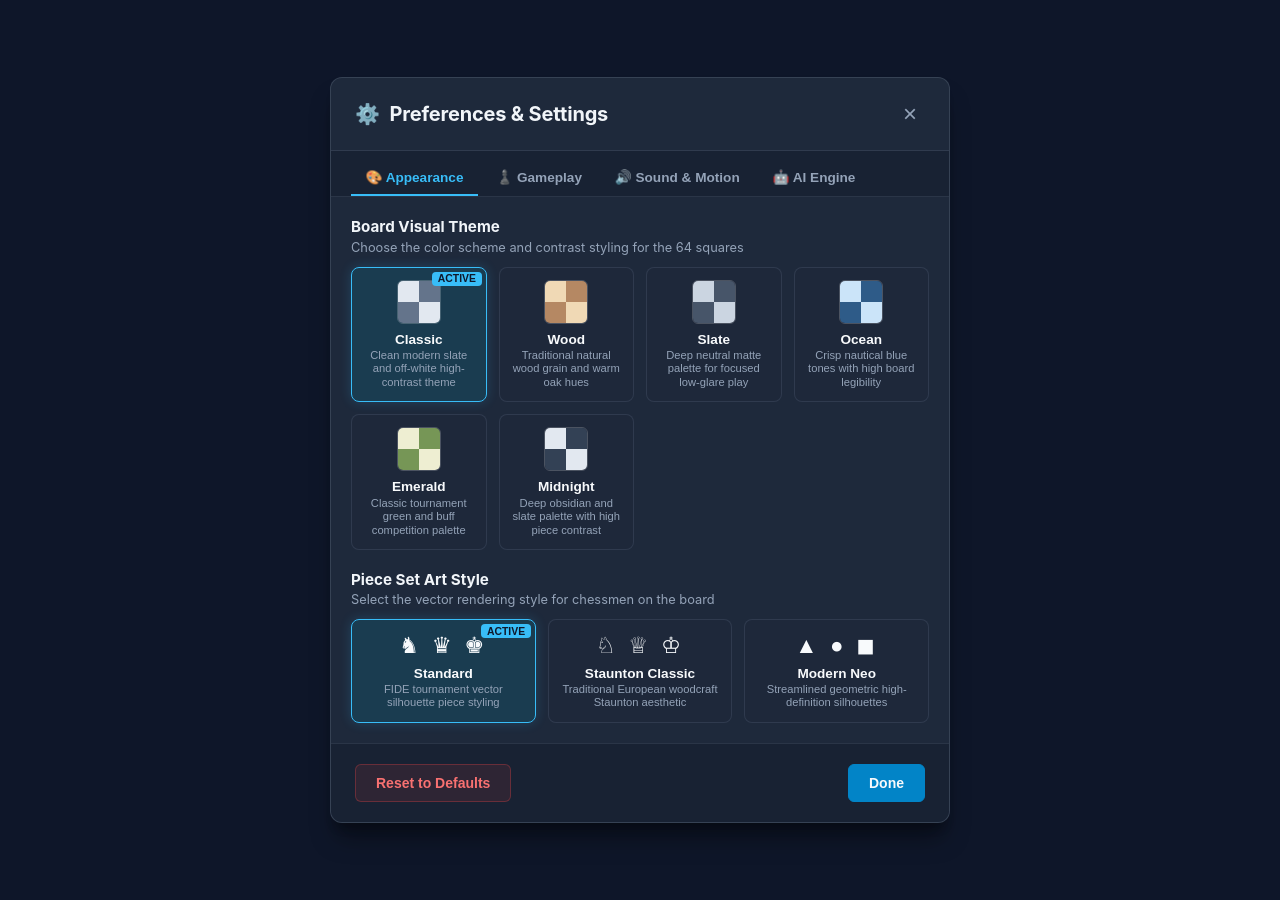
Scenario: Phase 08 · Sprint 06: SettingsModal Component & Integration (TC-SETUI-01 to TC-SETUI-20) › TC-SETUI-05: navigates between category tabs
Check: the element with test id "settings-section-appearance" is shown, box [351, 217, 929, 723]
Note: Switch to Gameplay
Click the tab with test id "tab-gameplay".
click(539, 178)  # box [482, 159, 596, 196]
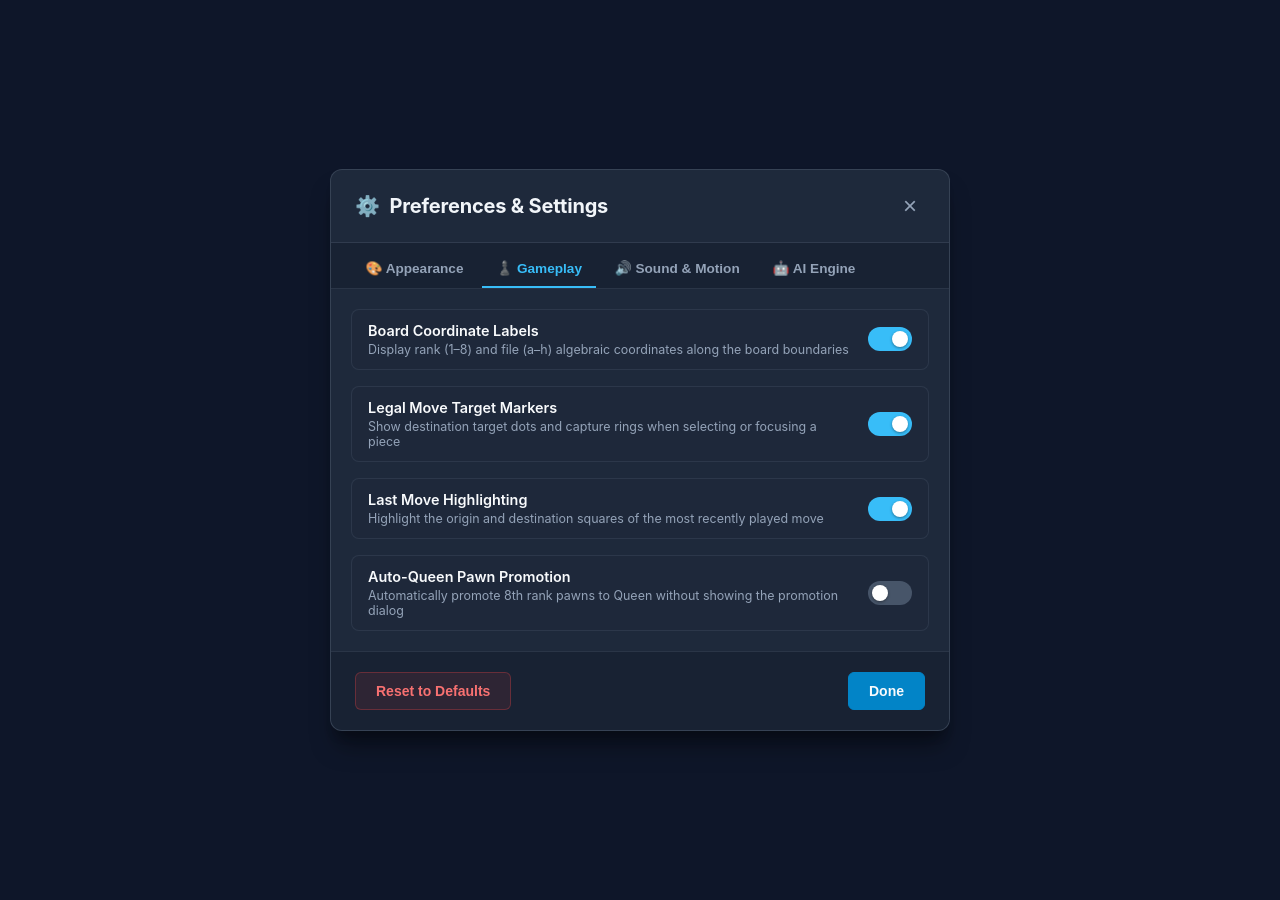
Check: the element with test id "settings-section-gameplay" is shown, box [351, 309, 929, 632]
Note: Switch to Audio & Motion
Click the tab with test id "tab-audio-motion".
click(677, 269)  # box [600, 250, 754, 288]
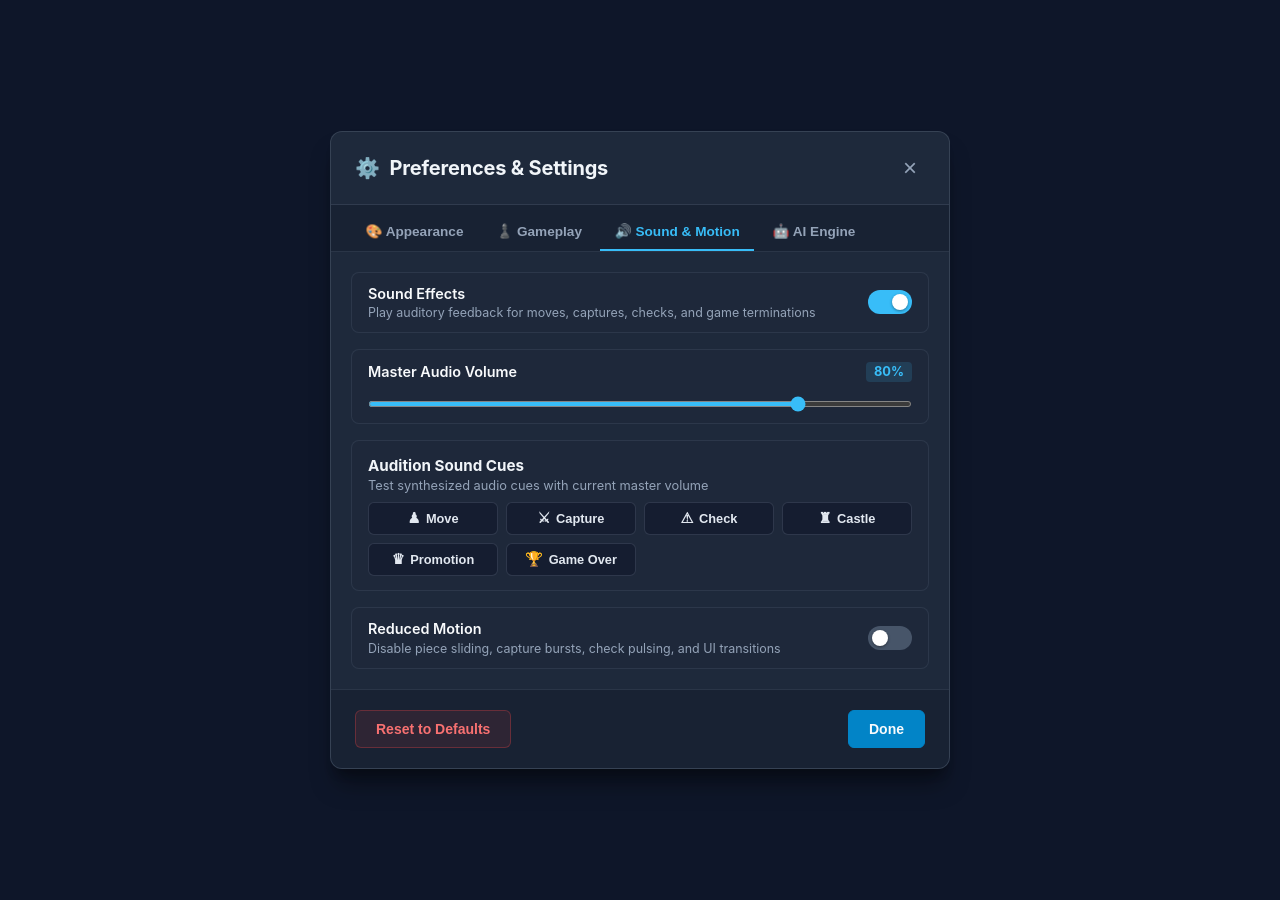
Check: the element with test id "settings-section-audio-motion" is shown, box [351, 272, 929, 669]
Note: Switch to AI Engine
Click the tab with test id "tab-engine".
click(814, 232)  # box [758, 213, 870, 251]
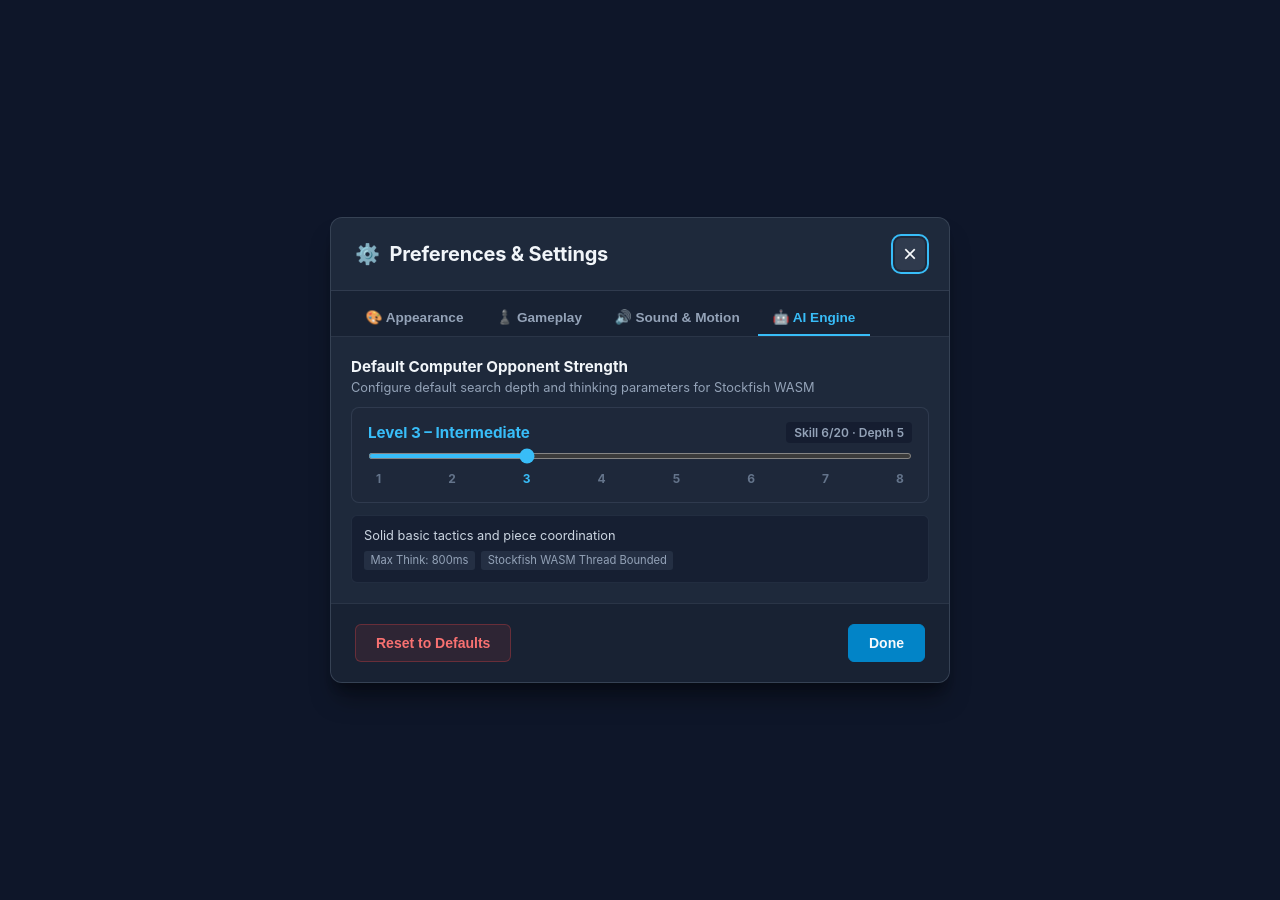
Check: the element with test id "settings-section-engine" is shown, box [351, 357, 929, 583]
